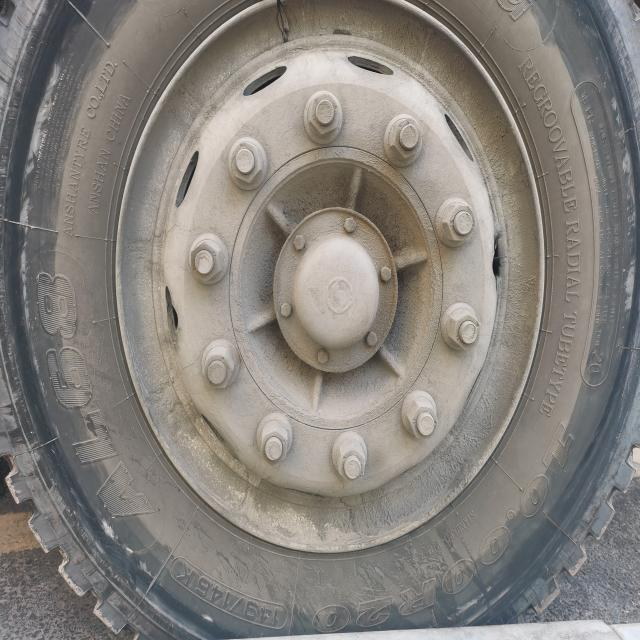bolt head: (343, 214, 357, 236), (315, 347, 329, 366), (280, 300, 294, 319), (292, 233, 306, 252), (379, 265, 392, 284), (365, 330, 378, 348)
bolt nut: (388, 114, 424, 164), (446, 306, 482, 354), (188, 238, 224, 285), (200, 345, 236, 391), (307, 91, 340, 140), (440, 201, 478, 243), (405, 396, 439, 441), (229, 141, 263, 185), (259, 420, 290, 468), (335, 438, 366, 486)
